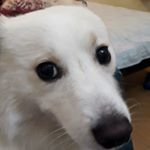puppy: (1, 3, 138, 150)
